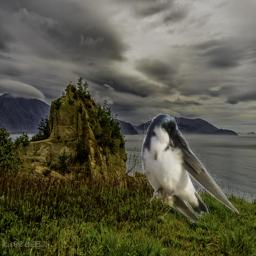Swallow: (139, 112, 239, 223)
